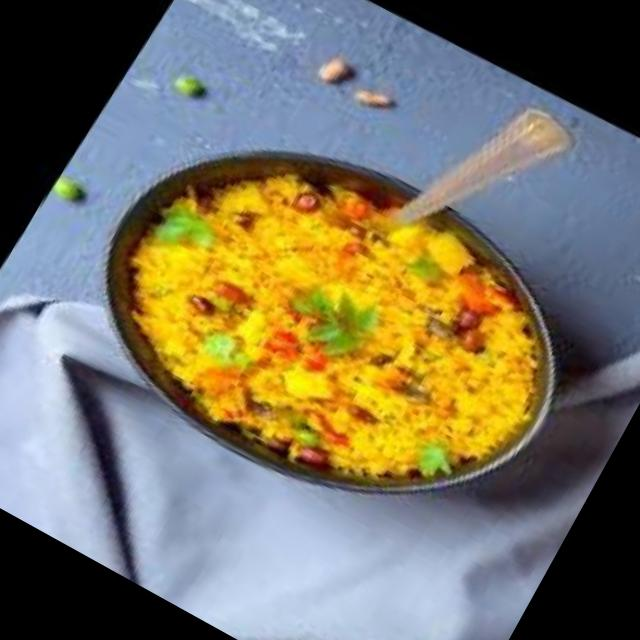poha: (71, 94, 596, 560)
